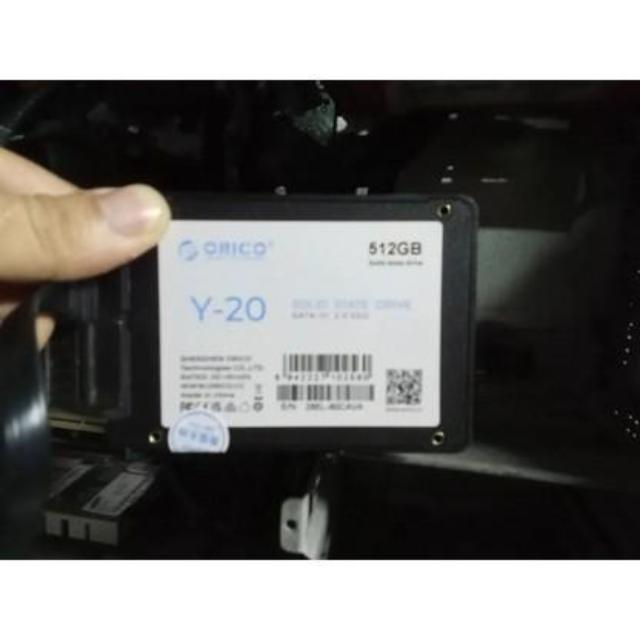DISK: (111, 197, 480, 460)
